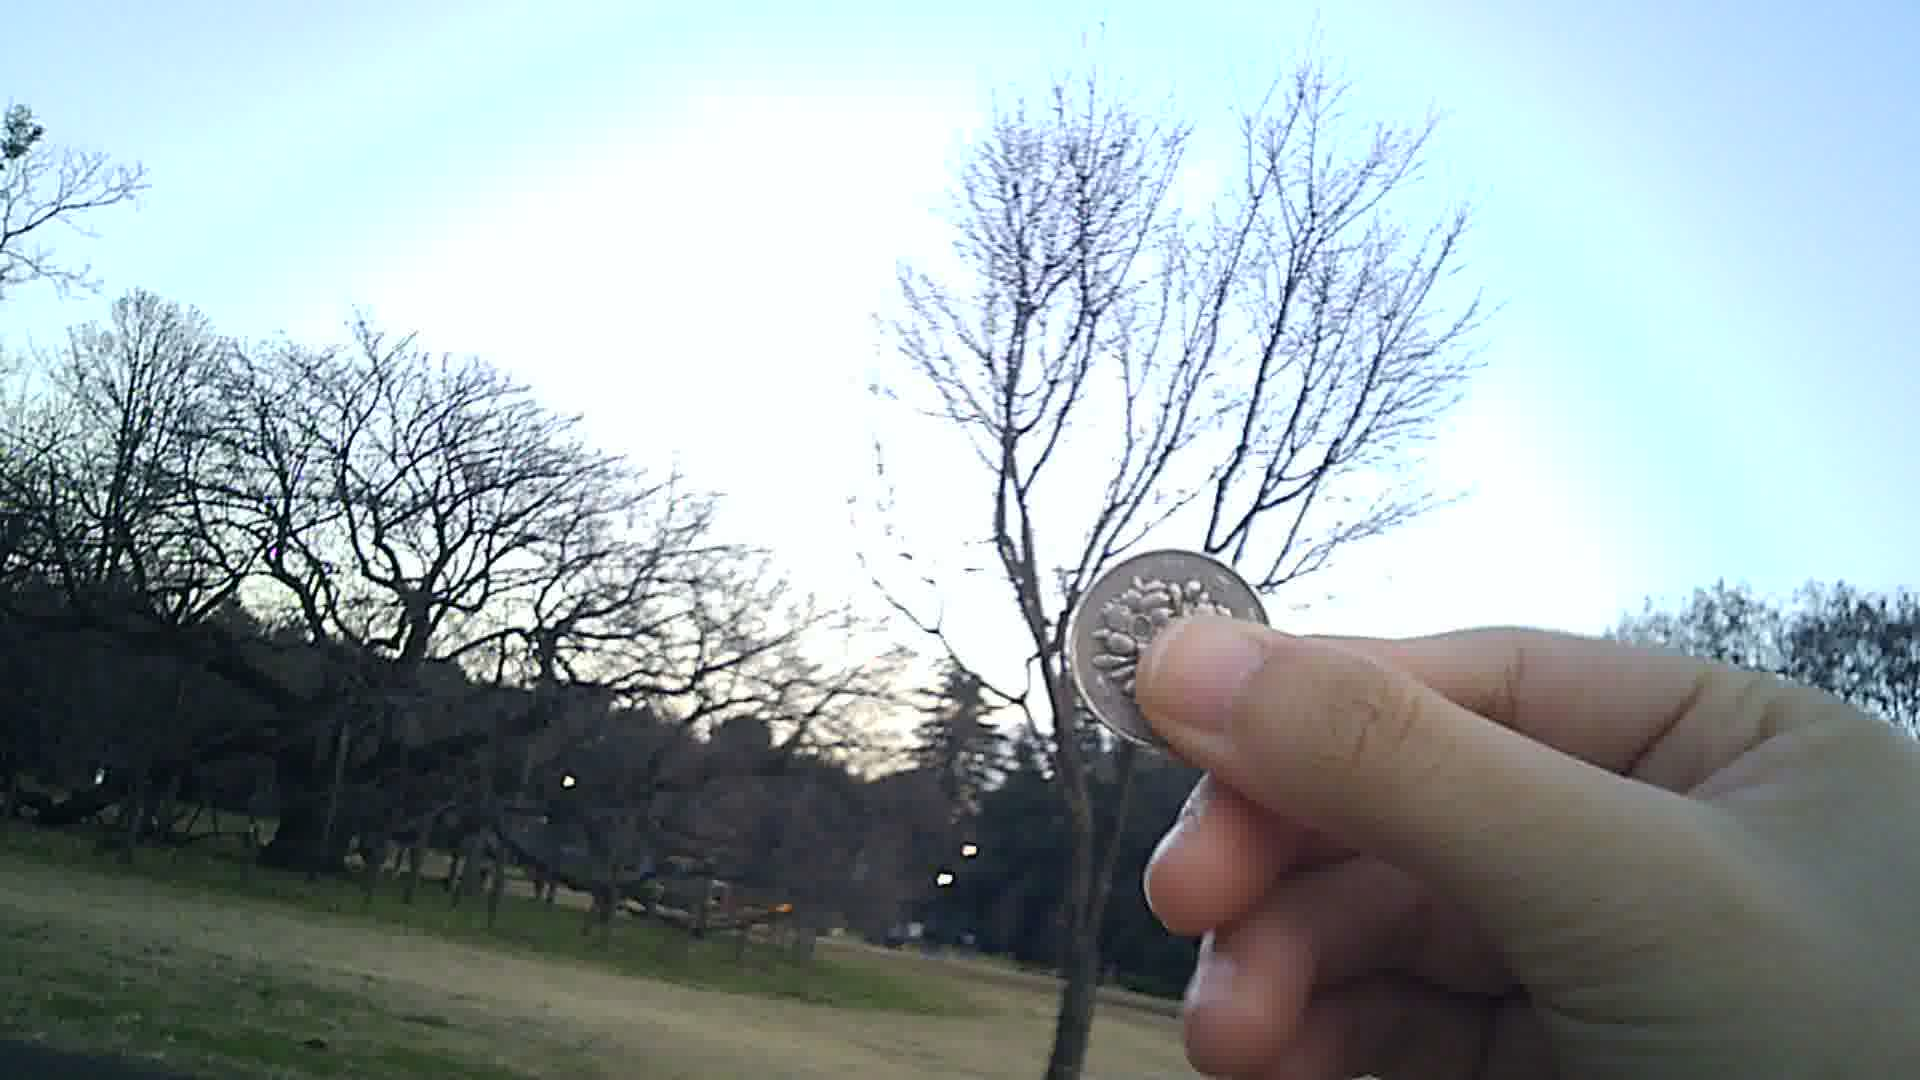100 Yen: (1059, 547, 1284, 769)
